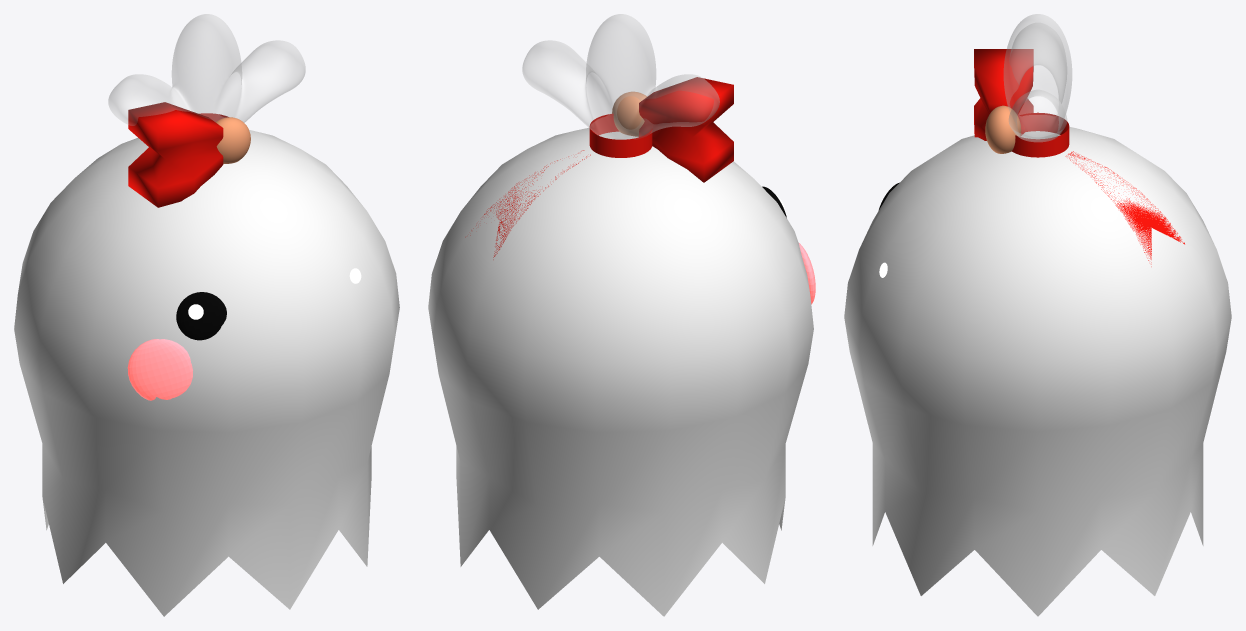
The model's file is shuilanlan.glb.
The picture shows the model from 3 angles, left to right: view 1: azimuth 30°, elevation 25°; view 2: azimuth 150°, elevation 25°; view 3: azimuth 270°, elevation 25°; orthographic projection.
Parts seen in each view (by area): view 1: 球体.001, 立方体, 立方体.001, 球体.003, 球体.002, 球体.004; view 2: 球体.001, 立方体, 立方体.001, 圆环.001, 球体.004, 球体.005; view 3: 球体.001, 立方体, 立方体.001, 圆环.001, 球体.005, 球体.004.
Part boxes in pixels (left/top/right/bottom): 球体.001: left=14, top=130, right=399, bottom=616; 立方体: left=108, top=14, right=305, bottom=125; 立方体.001: left=128, top=102, right=223, bottom=207; 球体.003: left=127, top=339, right=192, bottom=400; 球体.002: left=176, top=292, right=226, bottom=340; 球体.004: left=215, top=117, right=250, bottom=163; 球体.001: left=428, top=127, right=813, bottom=616; 立方体: left=522, top=14, right=719, bottom=139; 立方体.001: left=639, top=77, right=733, bottom=182; 圆环.001: left=589, top=113, right=652, bottom=157; 球体.004: left=612, top=91, right=646, bottom=136; 球体.005: left=465, top=150, right=590, bottom=259; 球体.001: left=844, top=126, right=1231, bottom=616; 立方体: left=1004, top=14, right=1071, bottom=141; 立方体.001: left=974, top=49, right=1033, bottom=140; 圆环.001: left=1012, top=112, right=1069, bottom=157; 球体.005: left=1065, top=151, right=1184, bottom=266; 球体.004: left=985, top=105, right=1021, bottom=153.
Size of the model in its own units: 2.25 by 3.41 by 2.25.
